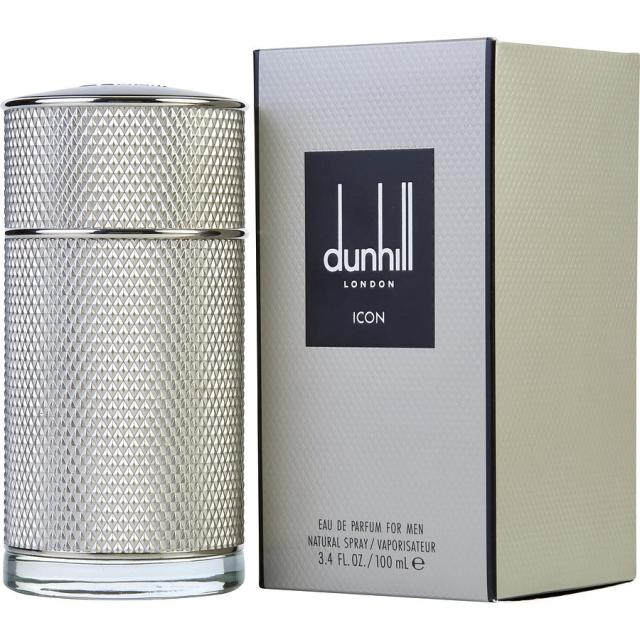dunhill: (249, 47, 636, 593)
